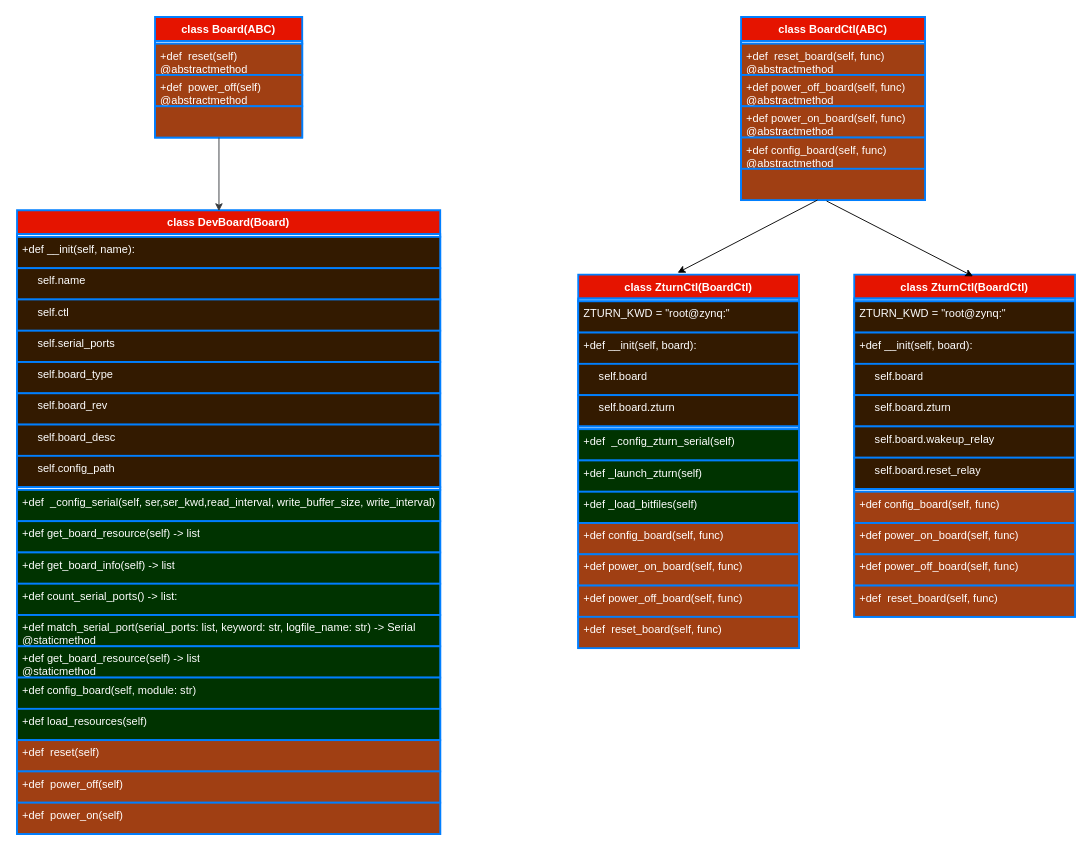
Image size: 1091x852. Some labels were removed from this diagram. Here are the shapes that lost their labels. From the top down, the centre of each, then its label:
At point (228, 121): "+def power_on (self) @abstractmethod".
At point (833, 184): "+def get_controller(board) @staticmethod".
